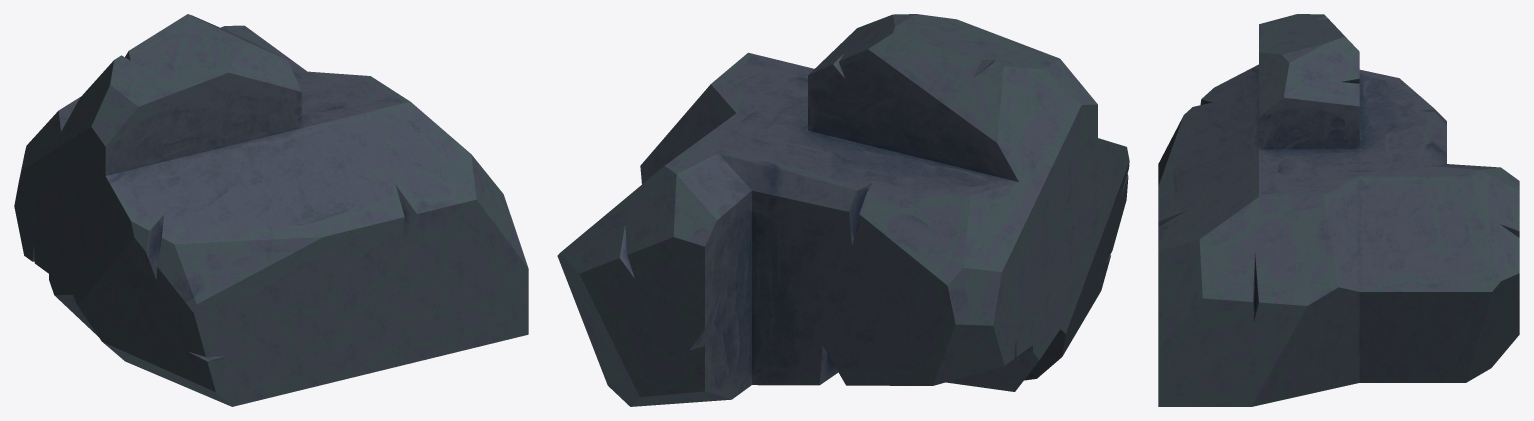
Rendered from BOULDER001.glb.
3 renders of one model, left to right at view 1: azimuth 30°, elevation 25°; view 2: azimuth 150°, elevation 25°; view 3: azimuth 270°, elevation 25°, orthographic. The views are drawn at different scales.
Visible parts, largest first — view 1: Boulder001_low_col; view 2: Boulder001_low_col; view 3: Boulder001_low_col.
Part boxes in pixels (left/top/right/bottom): Boulder001_low_col: left=14, top=14, right=528, bottom=406; Boulder001_low_col: left=557, top=14, right=1129, bottom=406; Boulder001_low_col: left=1158, top=14, right=1519, bottom=406.
Bounding box in the file's own units: 3.74 × 2.94 × 3.59.
Materials: 1 (1 with a texture image).
